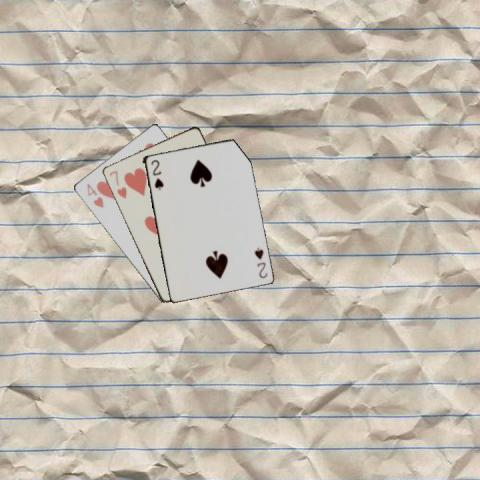2s: (251, 244, 269, 279), (148, 157, 165, 191)
4h: (83, 181, 105, 209)
7h: (106, 167, 128, 200)
